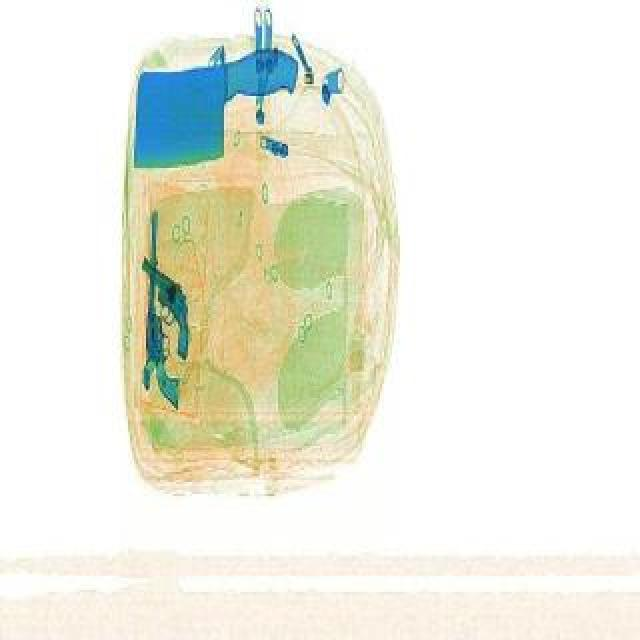gun: (106, 256, 222, 356), (142, 208, 182, 408)
knife: (126, 46, 302, 166)
